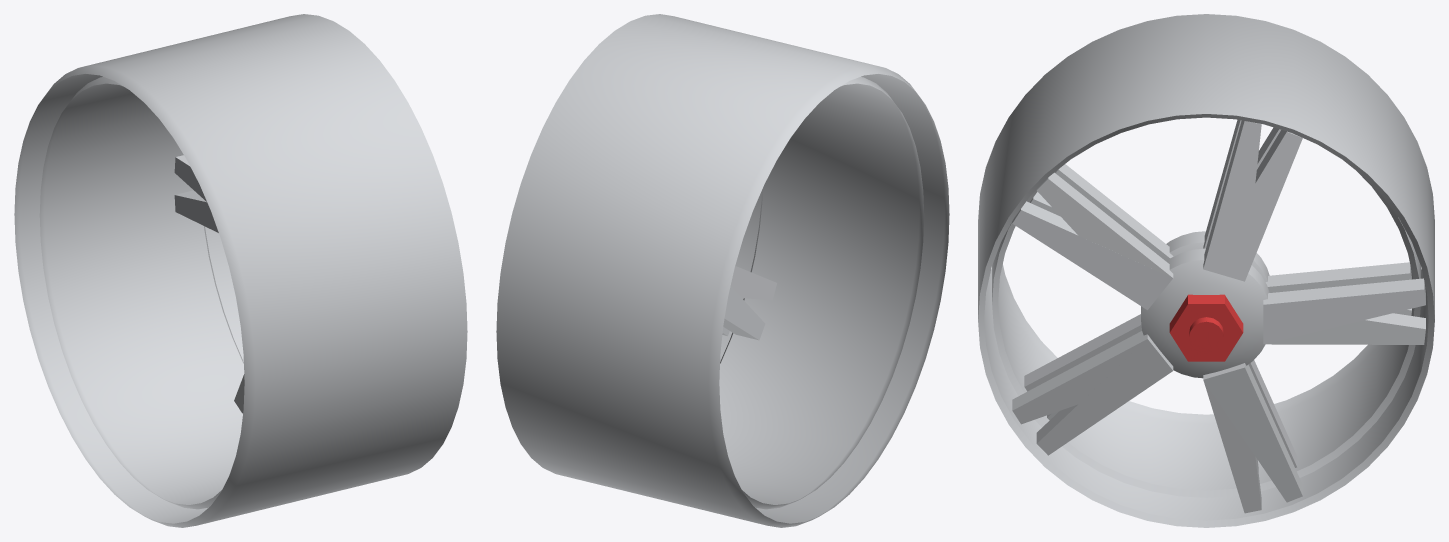
The model's file is rim-centerlock-huracan.glb.
3 views of the same model, side by side, from view 1: azimuth 30°, elevation 25°; view 2: azimuth 150°, elevation 25°; view 3: azimuth 270°, elevation 25° (orthographic). The views are drawn at different scales.
Parts seen in each view (by area): view 1: clR_rim, clF_rim; view 2: clR_rim, clF_rim; view 3: clR_rim, clF_rim, clR_nut.
Boxes of the visible parts, x1,y1,x2,y2 form: clR_rim: (14,14,467,527); clF_rim: (39,77,244,509); clR_rim: (496,14,949,527); clF_rim: (719,77,924,509); clR_rim: (978,14,1434,527); clF_rim: (992,119,1420,497); clR_nut: (1169,294,1243,361).
Size of the model in its own units: 0.325 by 0.522 by 0.522.
